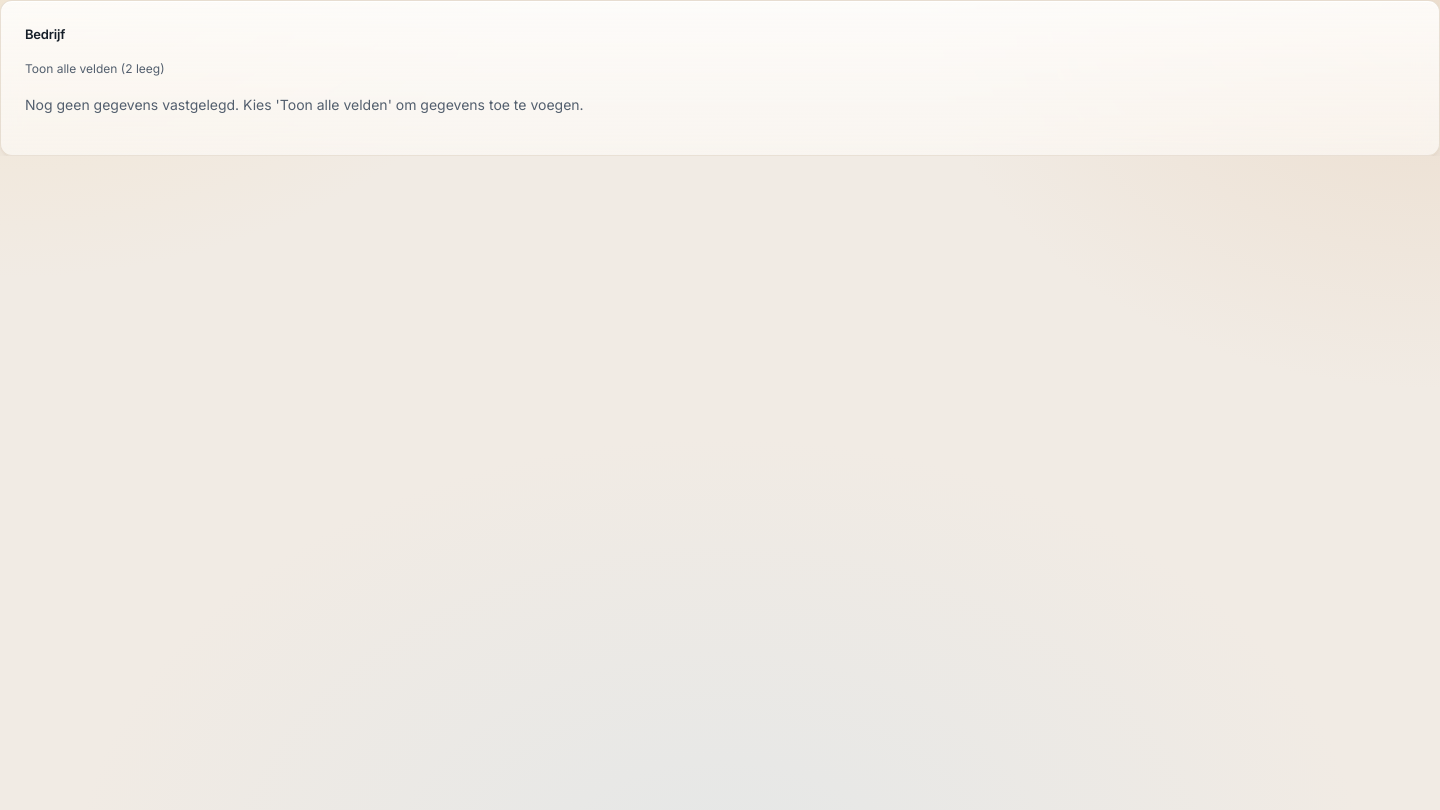
Test: Direct bewerken Relaties: klik op afzonderlijke veldwaarde › laat lege sectie invoer starten zonder 12 lege regels of bewerkformulier
The width and height of the screenshot is (1440, 810).
Expected: the text "Nog geen gegevens vastgelegd" is shown, [25,96,584,112]
Click the button "Toon alle velden (2 leeg)" at {"x": 95, "y": 68}, box [25,60,164,76]
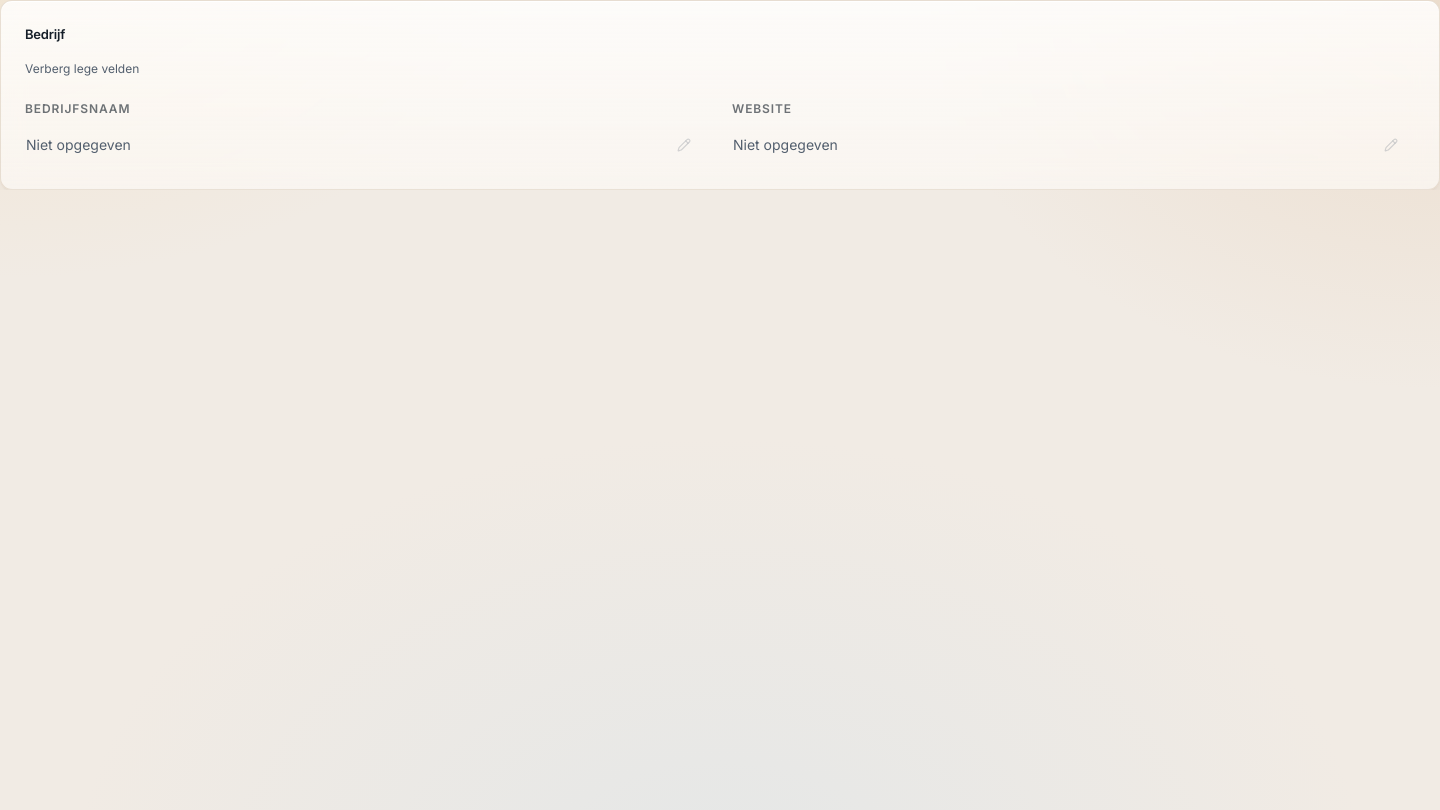
Click the button with aria-label "Wijzig Website" at {"x": 785, "y": 144}, box [724,124,1407,164]
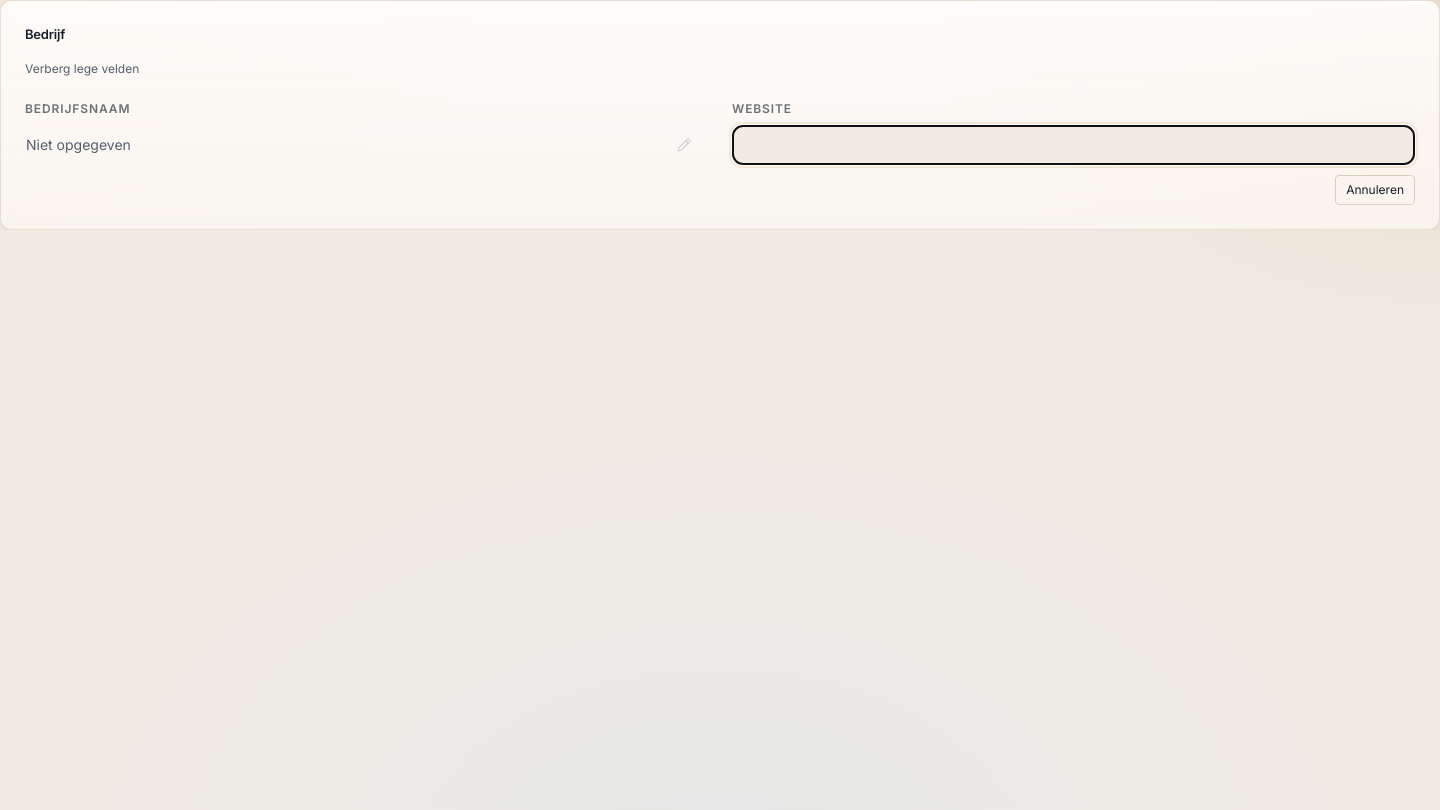
Result: the field labelled "Website" is shown at [732,124,1415,164]
